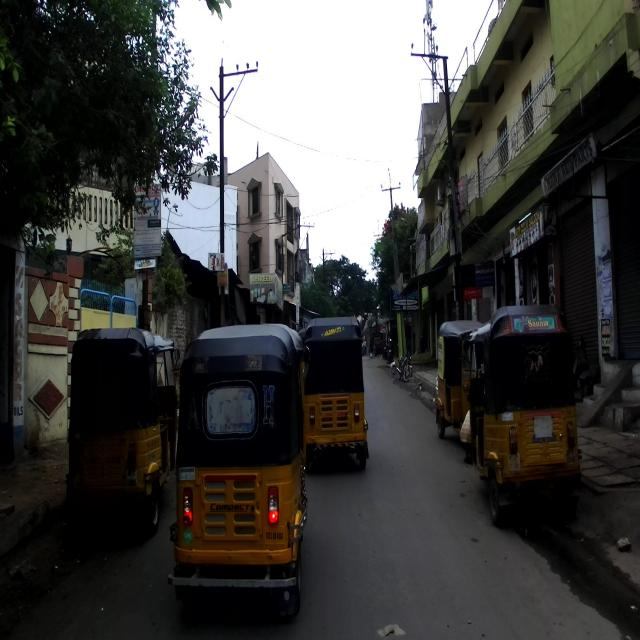autorickshaw: (167, 323, 311, 619), (462, 304, 582, 527), (65, 327, 180, 538), (302, 315, 367, 474), (435, 320, 483, 439)
